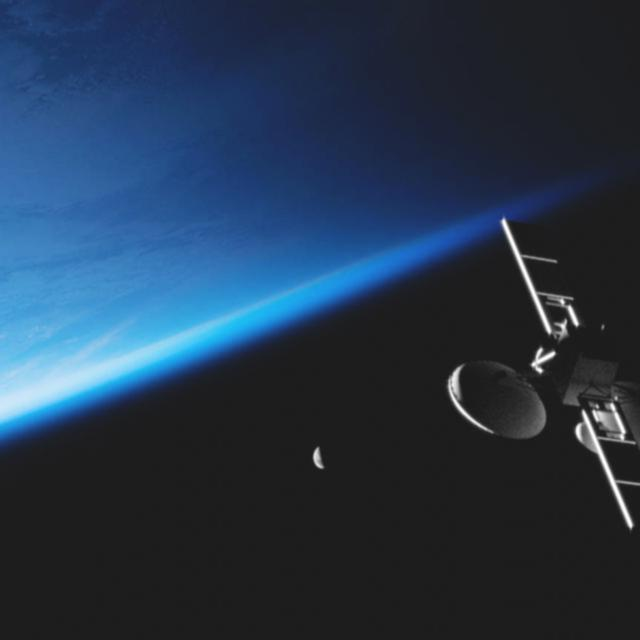satellite: (441, 184, 640, 536)
